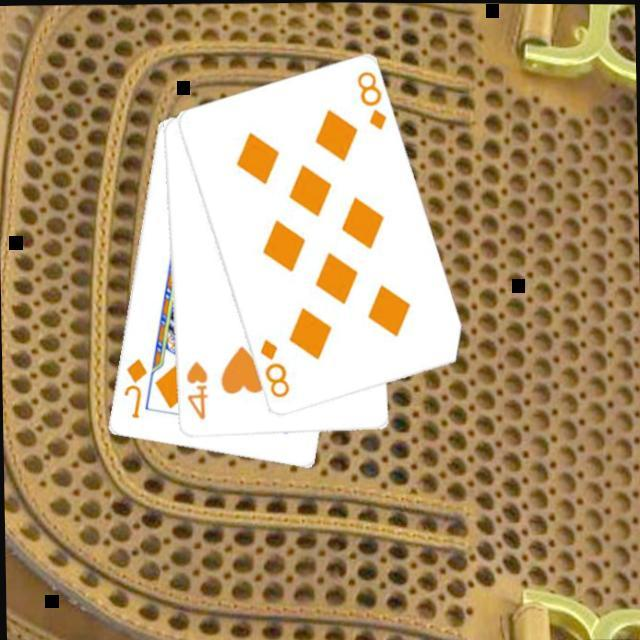4H: (182, 359, 211, 424)
8D: (257, 336, 293, 403), (354, 68, 389, 135)
JD: (120, 356, 150, 423)
